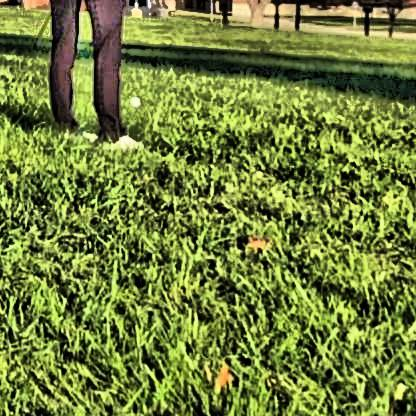golfball: (125, 93, 139, 105)
